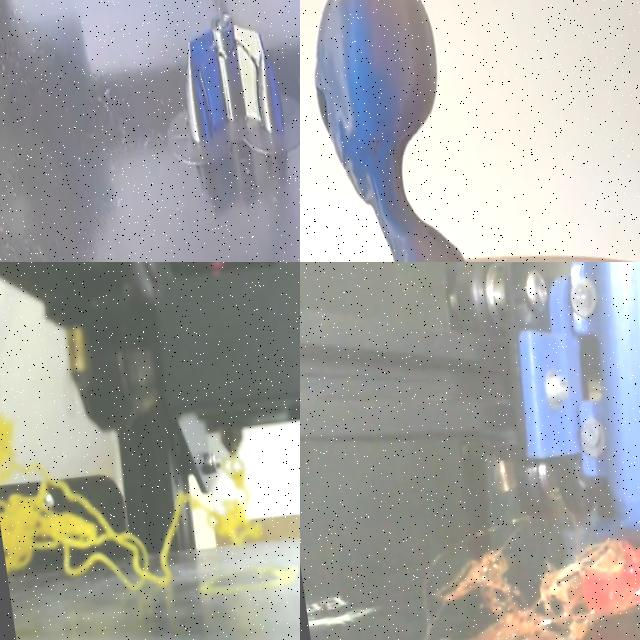spaghetti: (0, 413, 263, 591), (435, 538, 640, 640)
